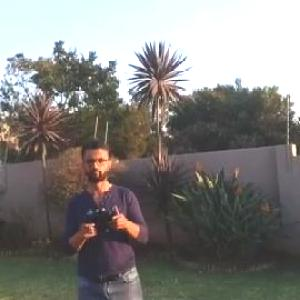follow: (56, 129, 154, 299)
